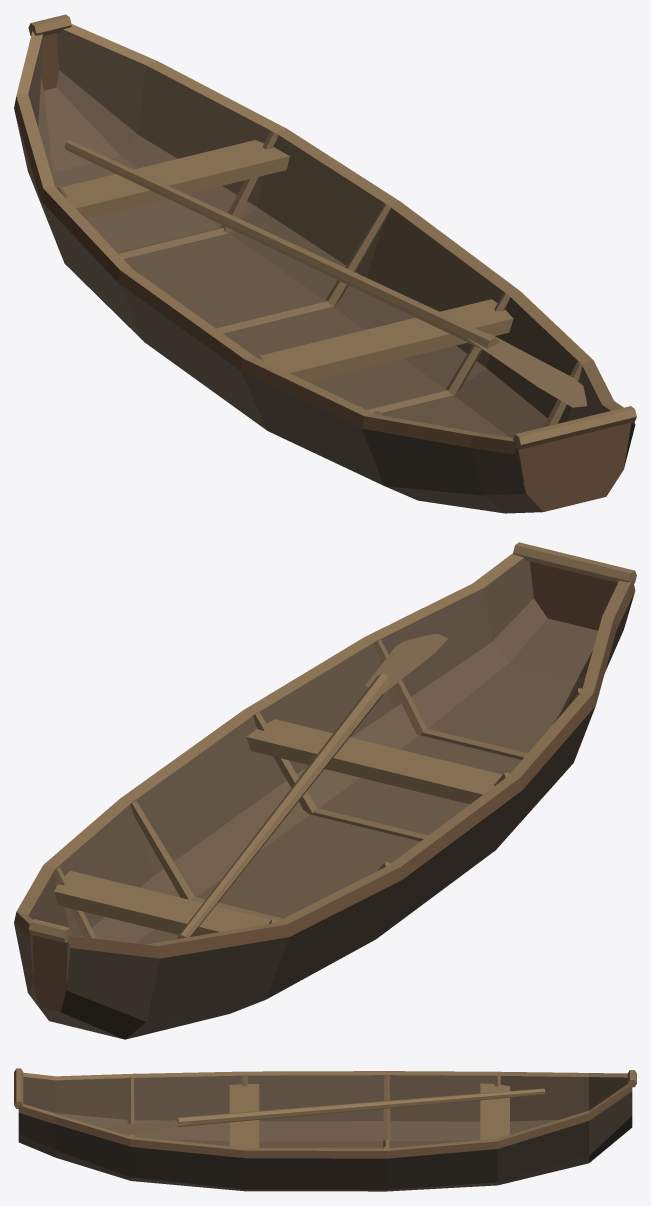
The model's file is river_skiff.gltf.
The picture shows the model from 3 angles, top to bottom: view 1: azimuth 30°, elevation 25°; view 2: azimuth 150°, elevation 25°; view 3: azimuth 270°, elevation 25°; orthographic projection. The views are drawn at different scales.
Visible parts, largest first — view 1: MooredRiverSkiff; view 2: MooredRiverSkiff; view 3: MooredRiverSkiff.
Boxes of the visible parts, <box> form: MooredRiverSkiff: <box>14,14,636,513</box>; MooredRiverSkiff: <box>14,542,636,1039</box>; MooredRiverSkiff: <box>14,1068,636,1191</box>.
Size of the model in its own units: 1.56 by 0.8529 by 5.05.
